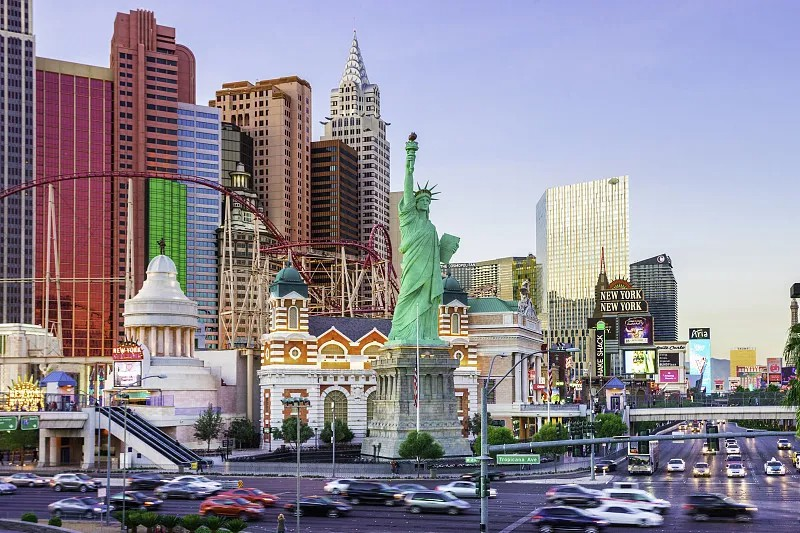SL: (361, 131, 472, 457)
